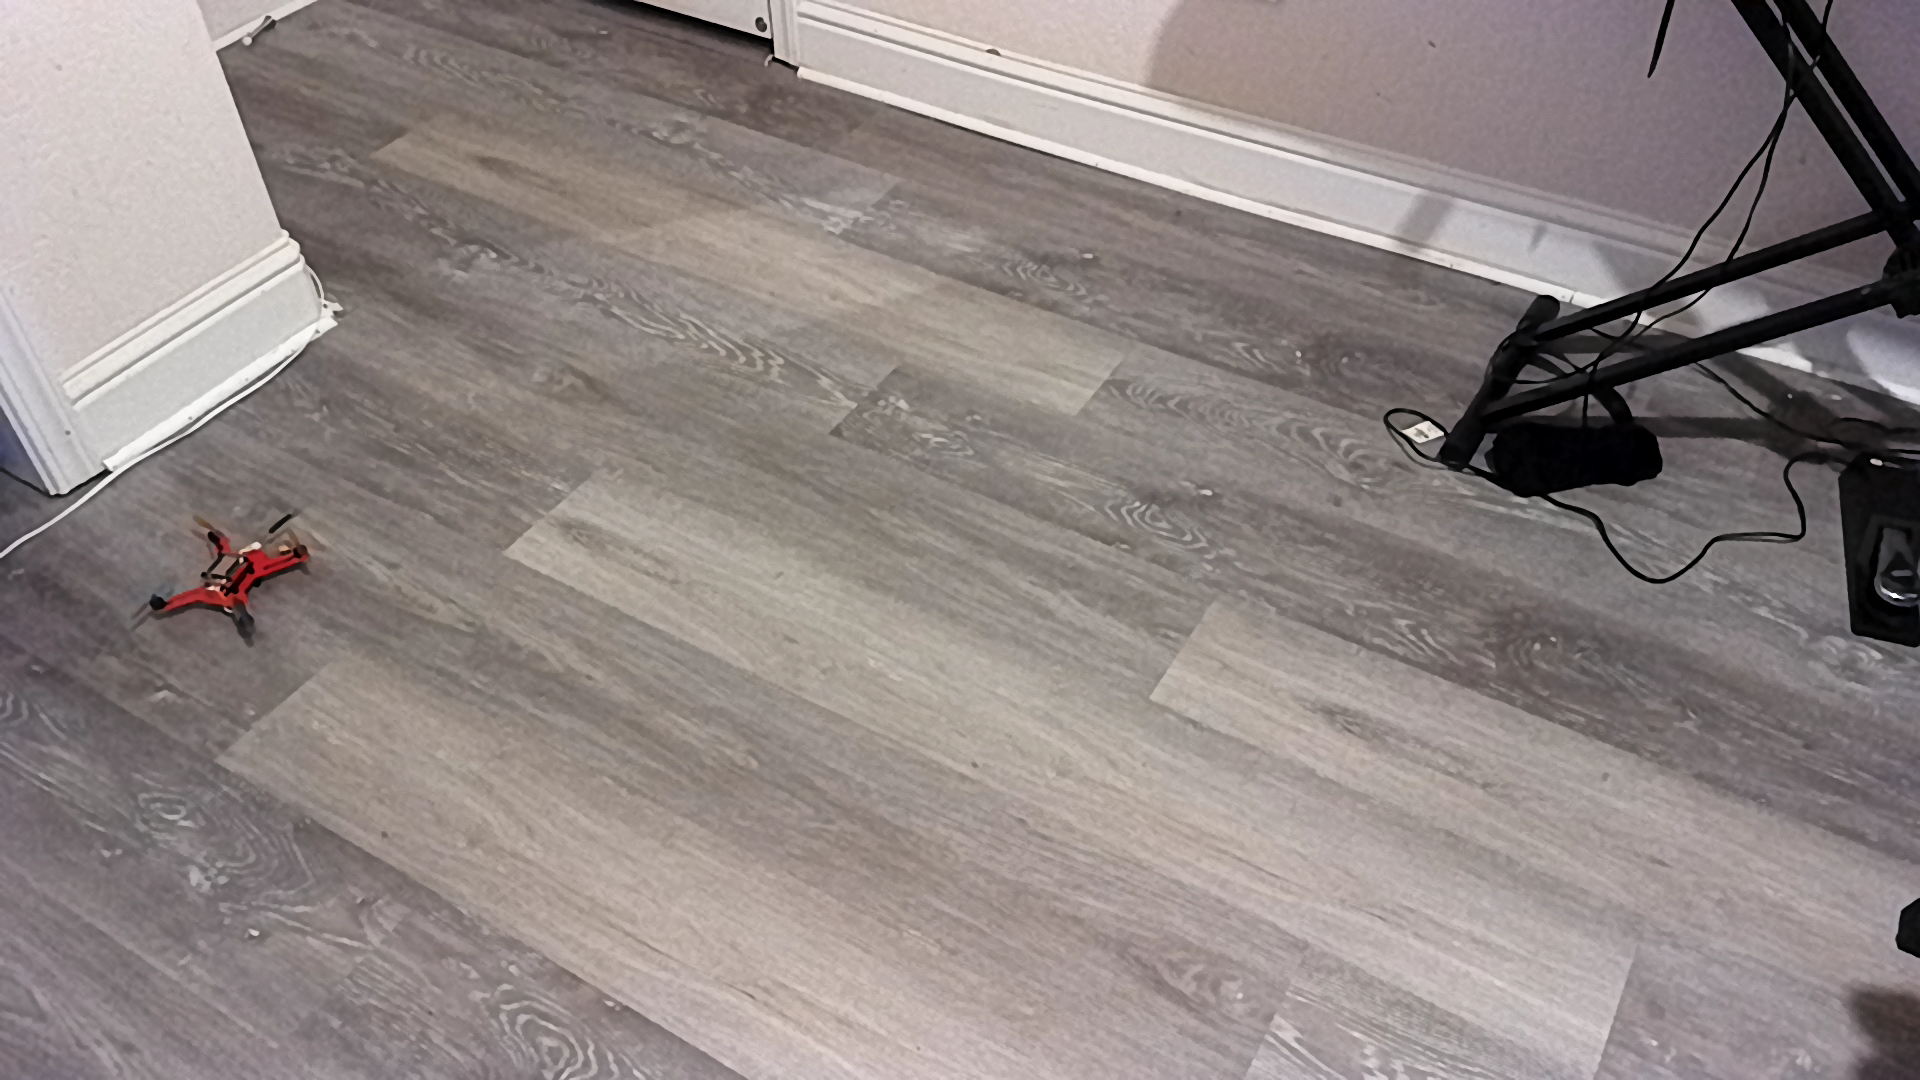drone: (115, 509, 345, 671)
